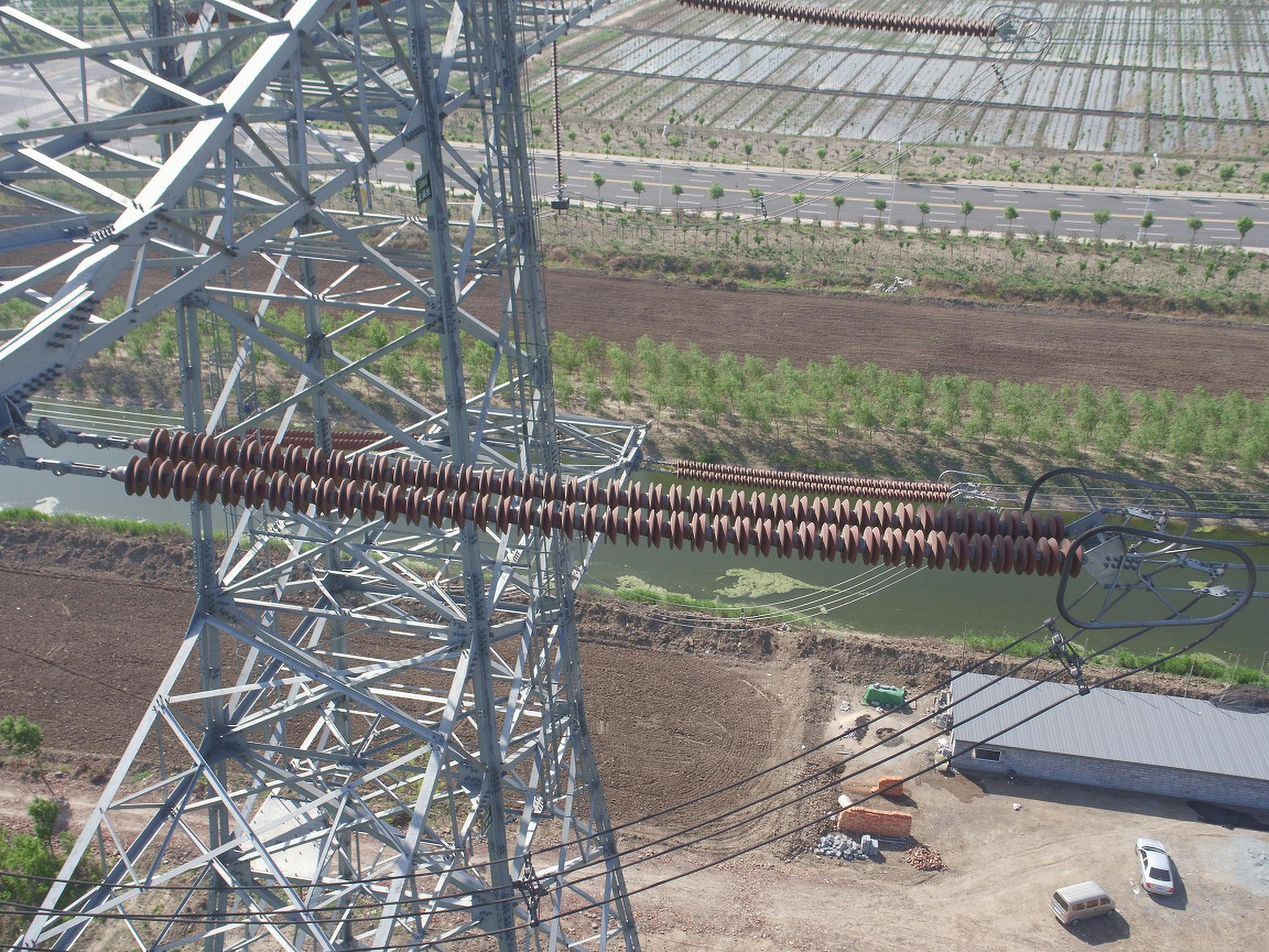insulator: (119, 422, 1085, 582), (671, 457, 956, 505), (677, 1, 999, 40), (209, 421, 422, 453), (549, 39, 565, 183)
